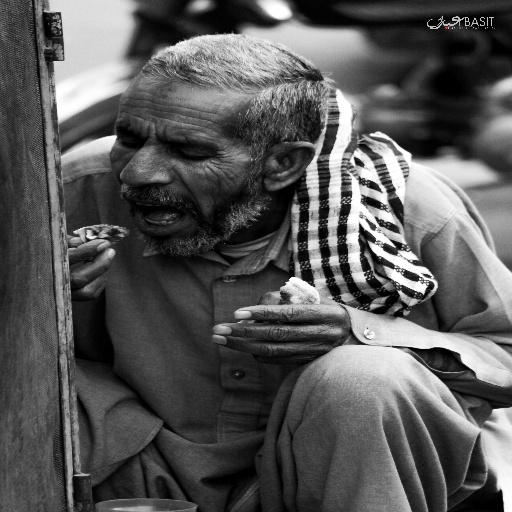hand: (206, 300, 386, 371), (66, 234, 118, 304)
